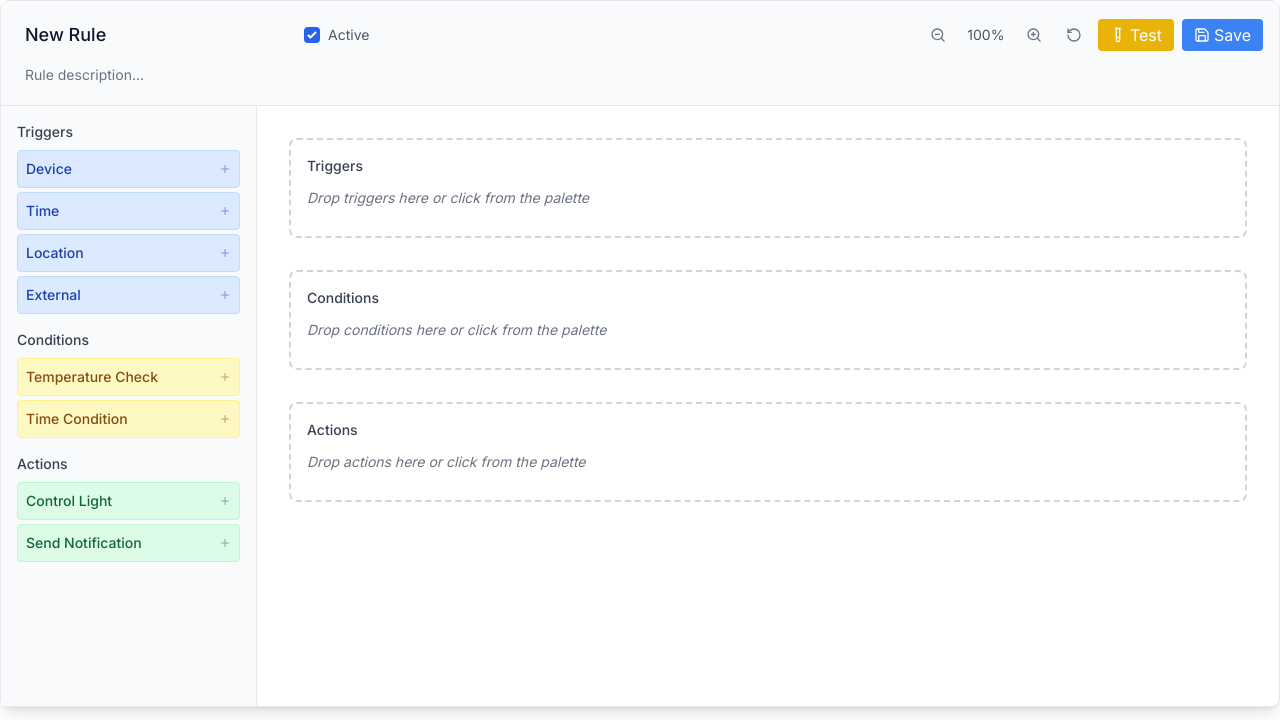
Test case: RuleBuilder Component › Zoom and Pan Controls › resets zoom when reset button is clicked
# First zoom in
What coordinates should you click on to do the following:
click the button titled "Zoom In"
I would click on:
 (1034, 35)
Its box is left=1018, top=19, right=1050, bottom=51.
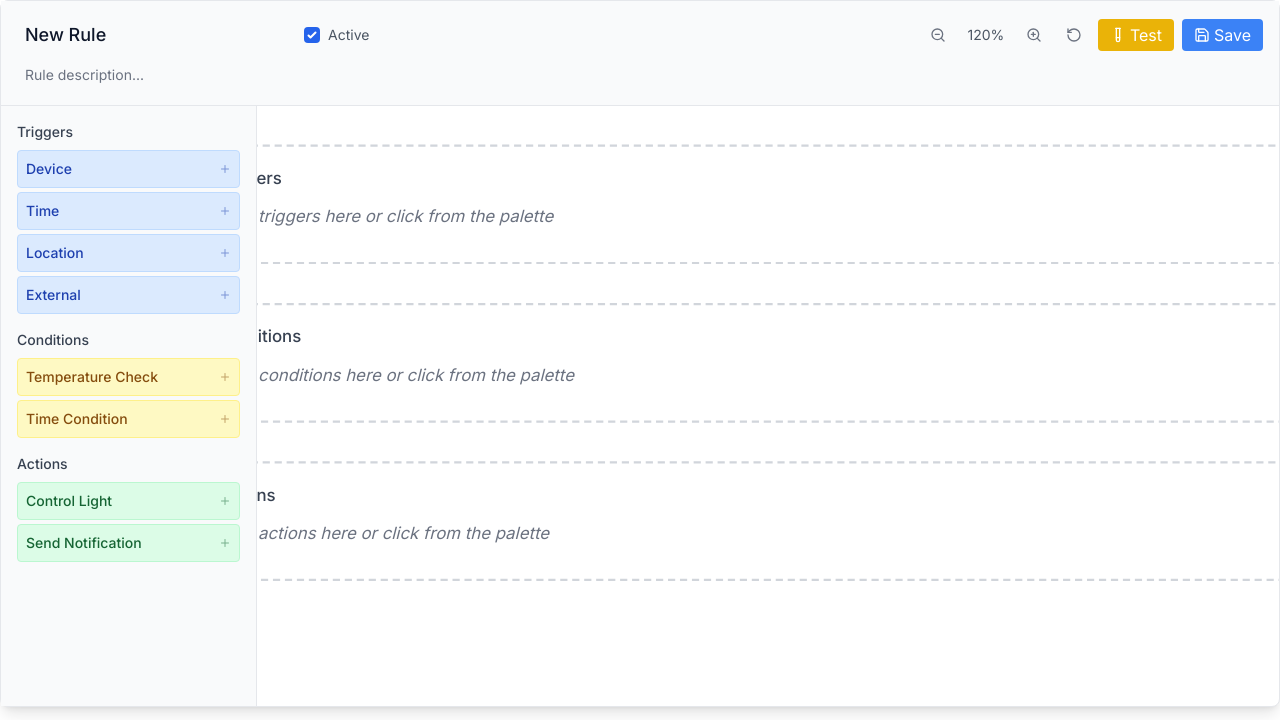
# Then reset
What coordinates should you click on to do the following:
click the button titled "Reset View"
I would click on:
 (1074, 35)
Its box is left=1058, top=19, right=1090, bottom=51.
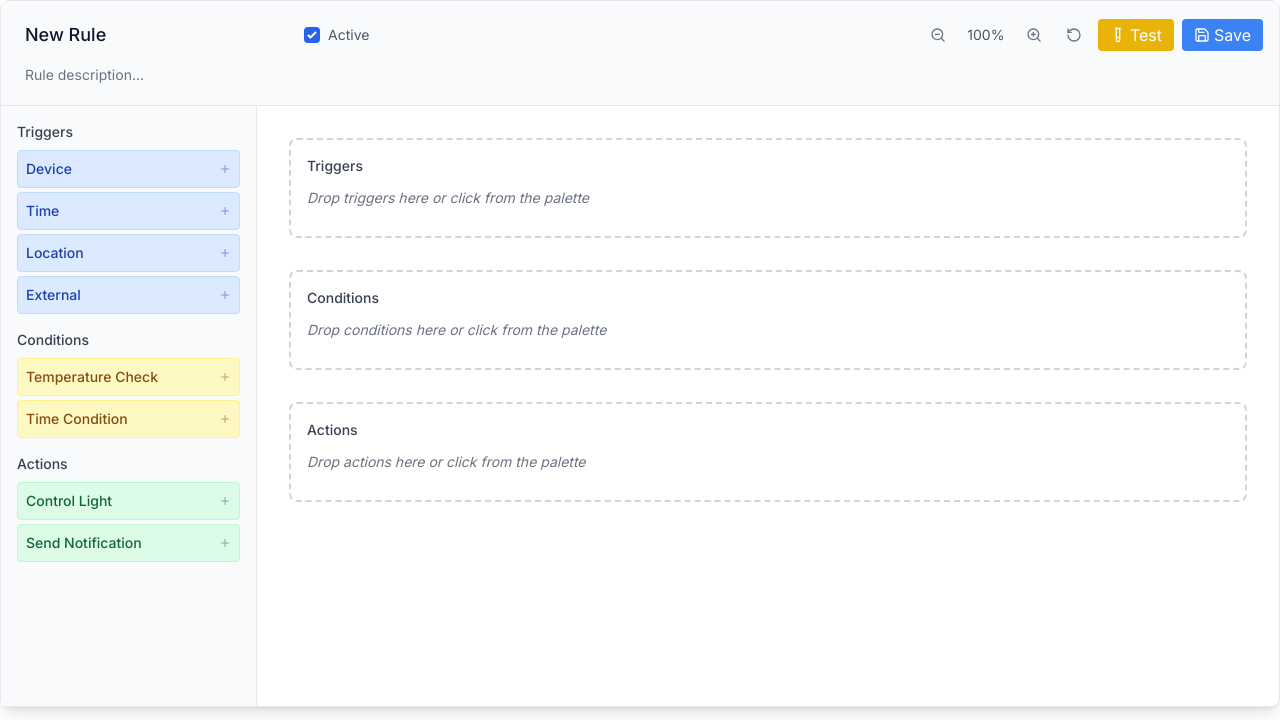
Check: the text "100%" is shown, box left=967, top=26, right=1004, bottom=43
